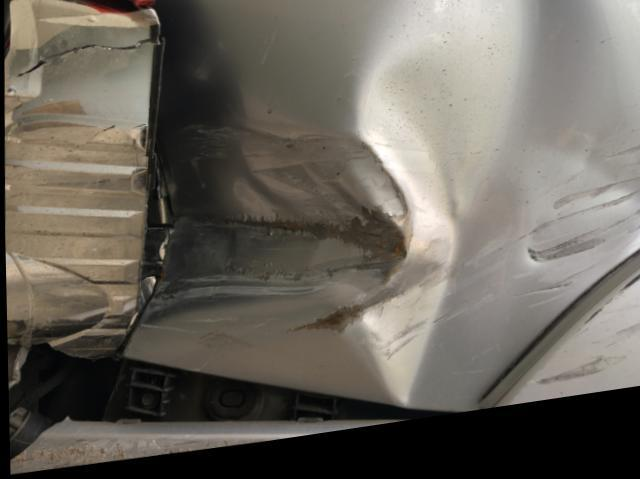crack: (12, 38, 154, 77)
dent: (142, 0, 640, 424)
scratch: (530, 282, 640, 406)
